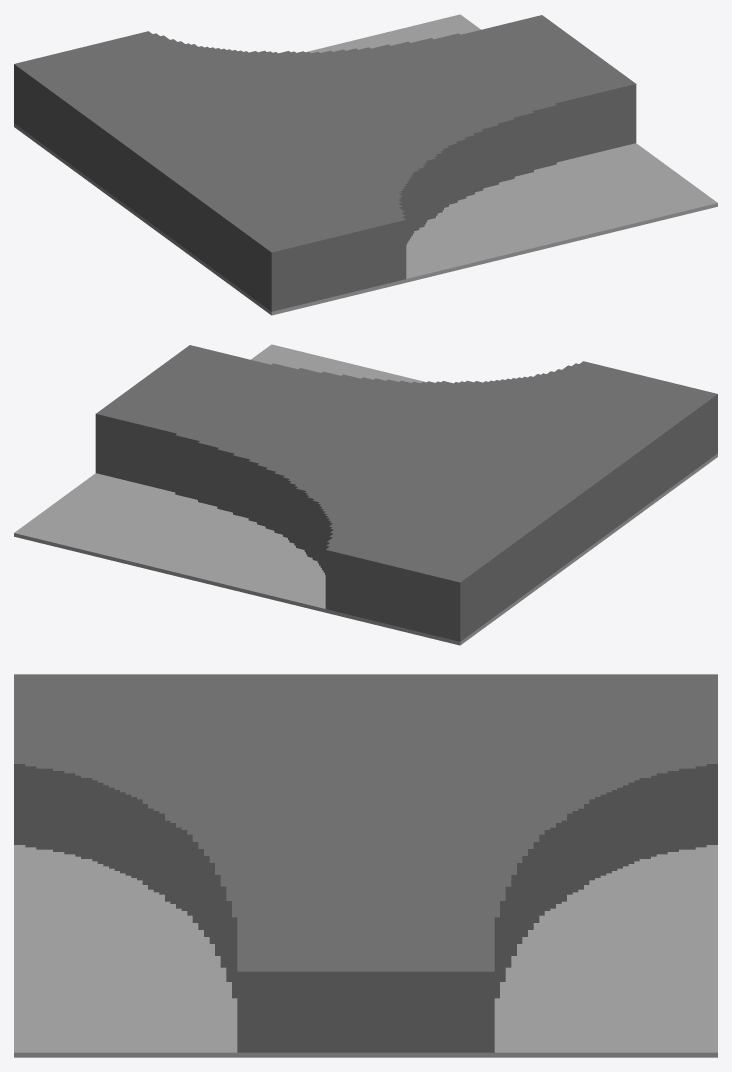
The model's file is Erivale-5.obj.
The picture shows the model from 3 angles, top to bottom: view 1: azimuth 30°, elevation 25°; view 2: azimuth 150°, elevation 25°; view 3: azimuth 270°, elevation 25°; orthographic projection. The views are drawn at different scales.
Size of the model in its own units: 12.6 by 1.7 by 12.6.
Materials: 1 (1 with a texture image).
